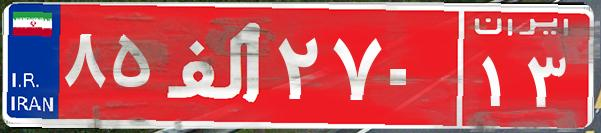0: (385, 28, 445, 110)
1: (475, 38, 525, 113)
2: (273, 28, 330, 110)
3: (525, 38, 570, 115)
5: (110, 28, 158, 105)
7: (330, 28, 385, 110)
8: (57, 26, 110, 107)
الف: (158, 15, 273, 115)
